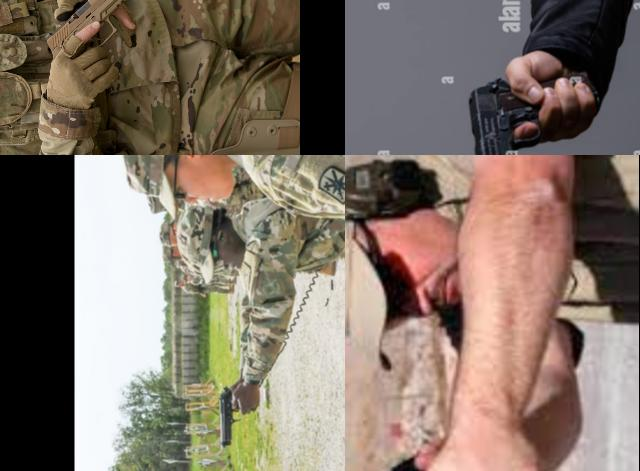handgun: (465, 61, 603, 155), (41, 0, 142, 87), (383, 446, 492, 471), (215, 381, 246, 450)
